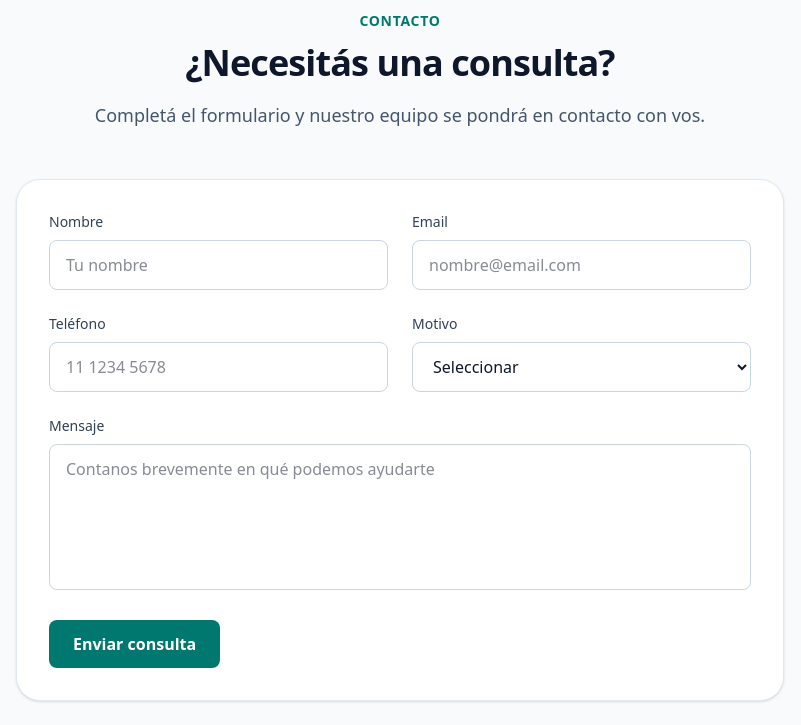
Test: Contact › shows validation error for an invalid email
In the field labelled "Nombre": (218, 265) top-left (49, 240), bottom-right (388, 290), type "Juan Pérez"
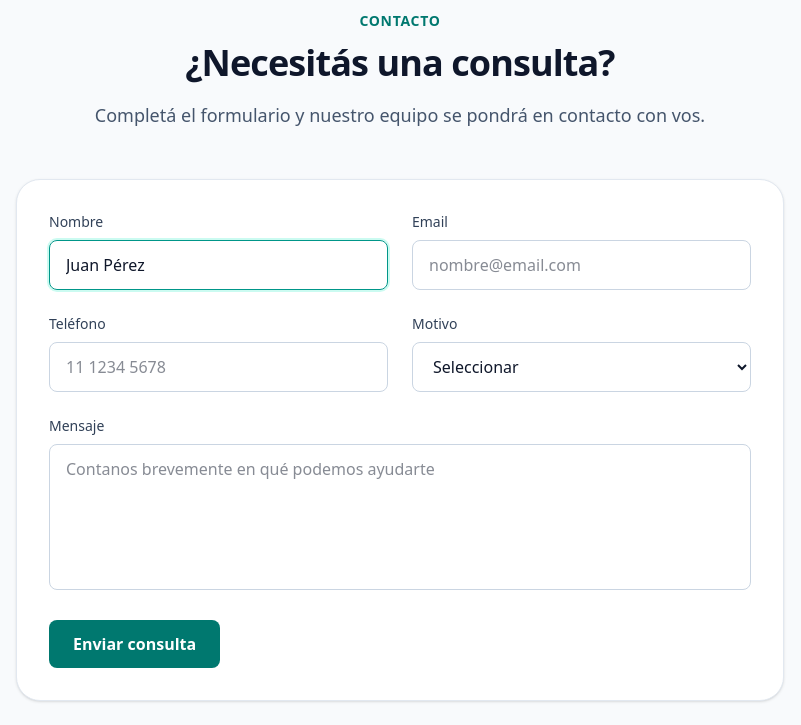
In the field labelled "Email": (582, 265) top-left (412, 240), bottom-right (751, 290), type "esto-no-es-un-email"
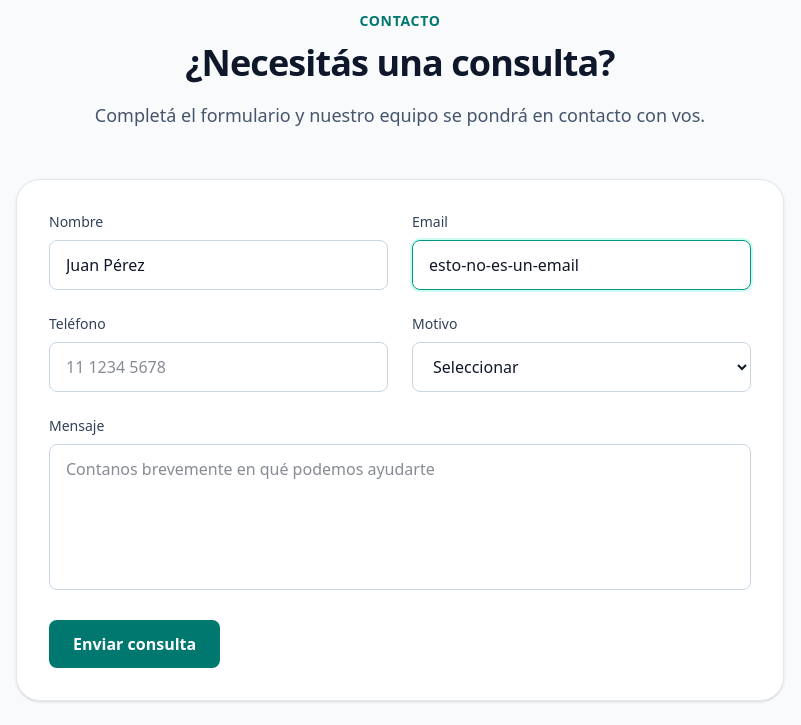
In the field labelled "Teléfono": (218, 367) top-left (49, 342), bottom-right (388, 392), type "1122334455"
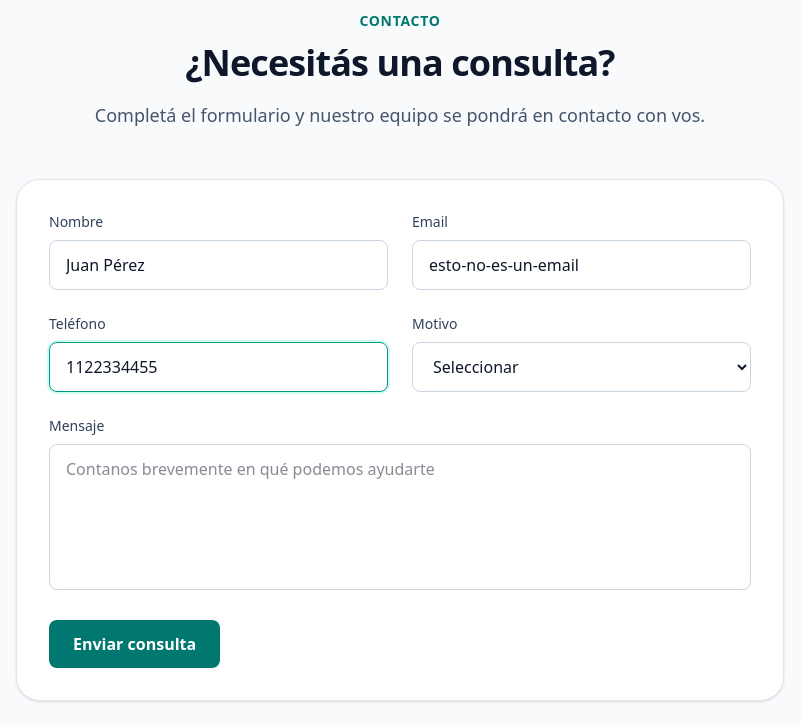
Select "Consulta general" in the dropdown labelled "Motivo": (582, 367) top-left (412, 342), bottom-right (751, 392)
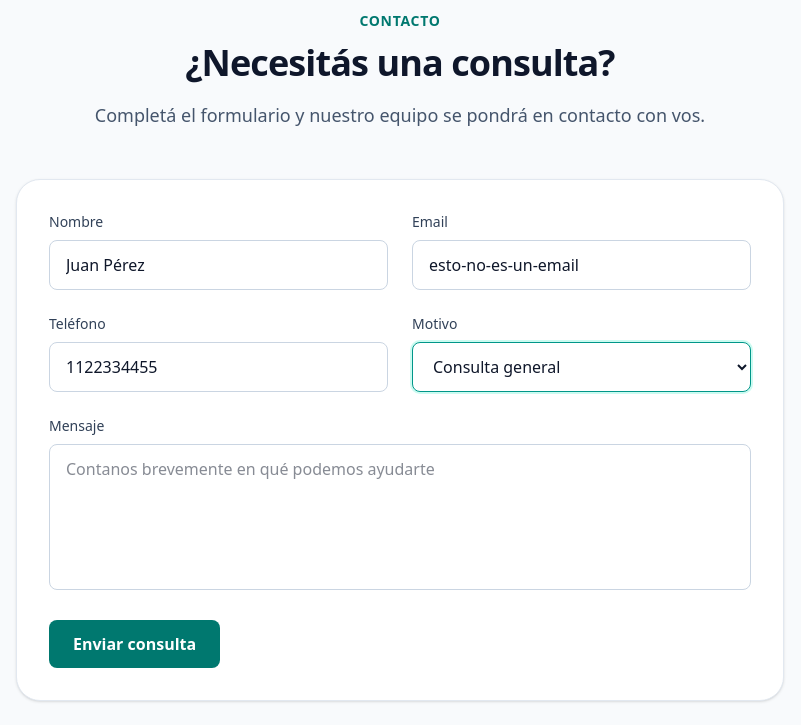
In the text box labelled "Mensaje": (400, 517) top-left (49, 444), bottom-right (751, 590), type "Necesito realizar una consulta veterinaria."
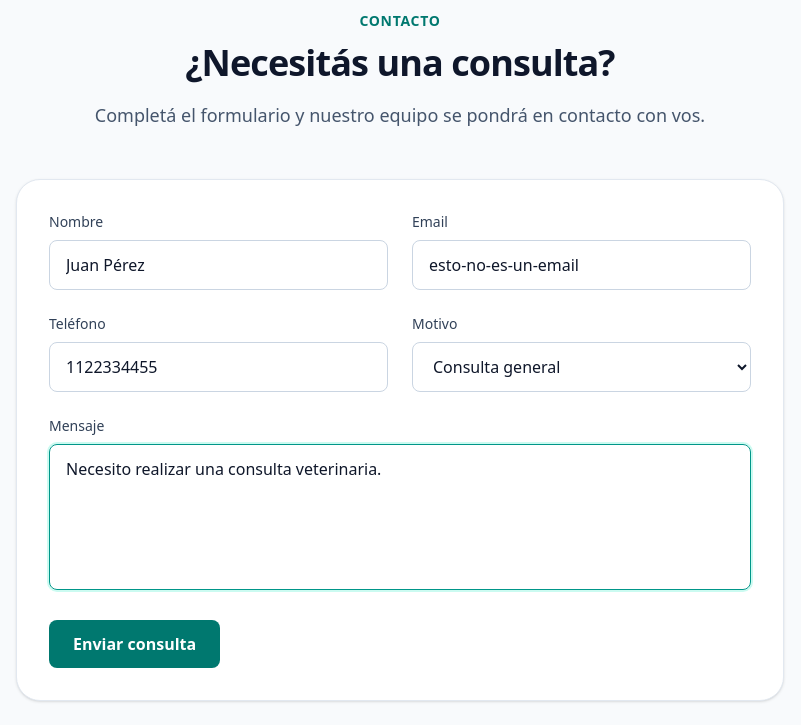
Click the button "Enviar consulta": (135, 644) top-left (49, 620), bottom-right (220, 668)
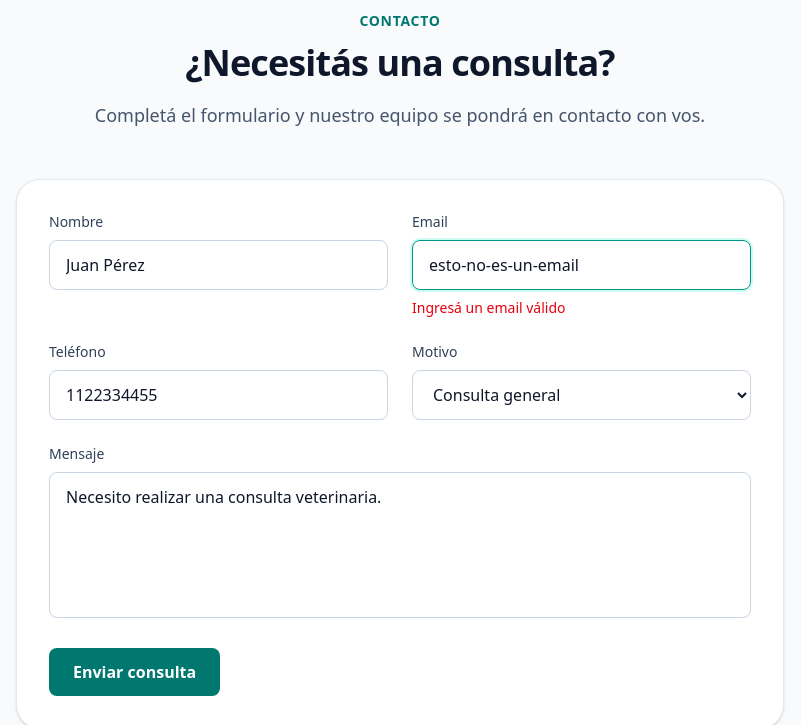
expect the text "Ingresá un email válido" is shown: met, box top-left (412, 298), bottom-right (566, 317)
